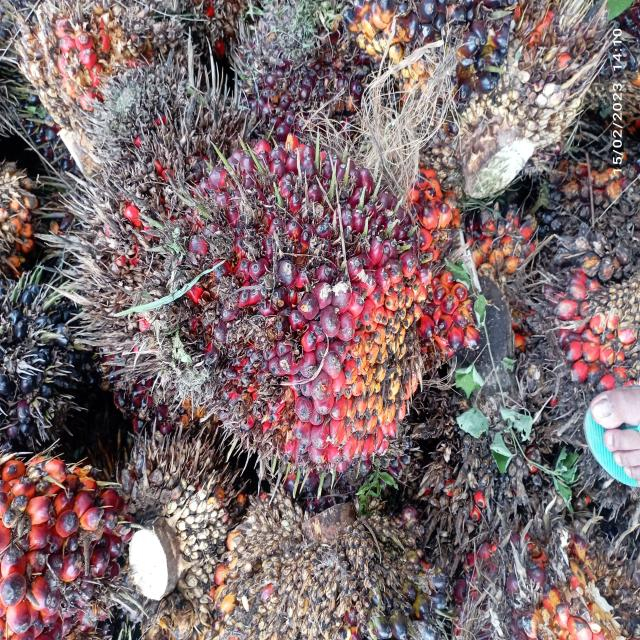fraksi 00: (0, 264, 97, 462)
fraksi 3: (137, 91, 471, 480), (1, 432, 130, 640)
